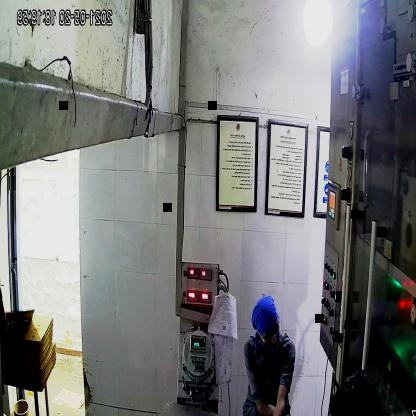goggles: (258, 319, 282, 347)
